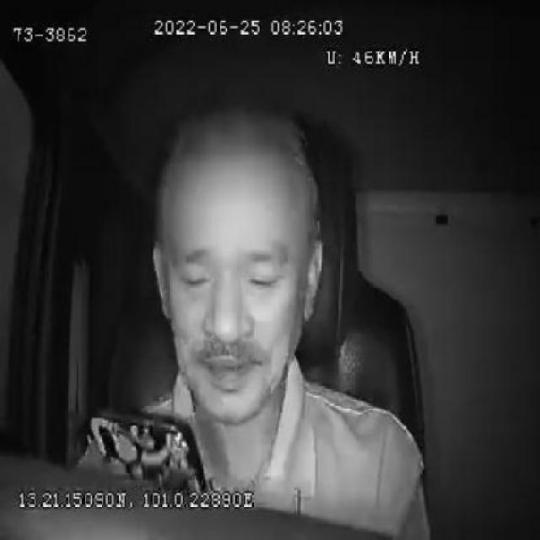phone: (91, 413, 204, 494)
